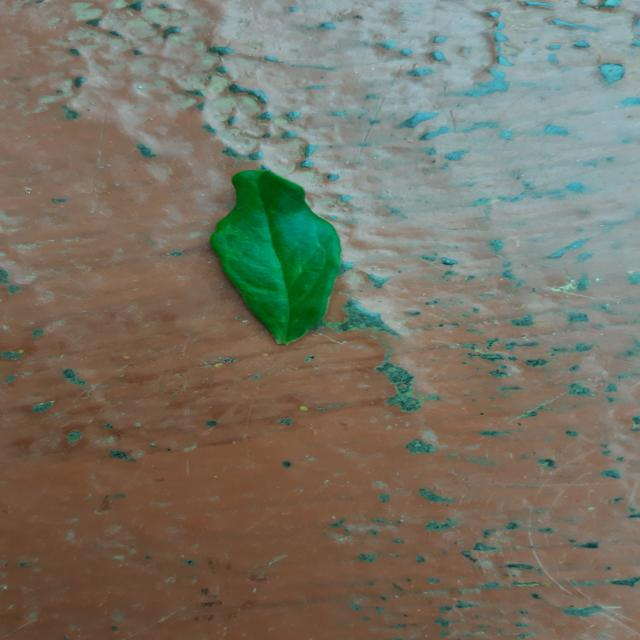pumpkin: (211, 170, 340, 344)
